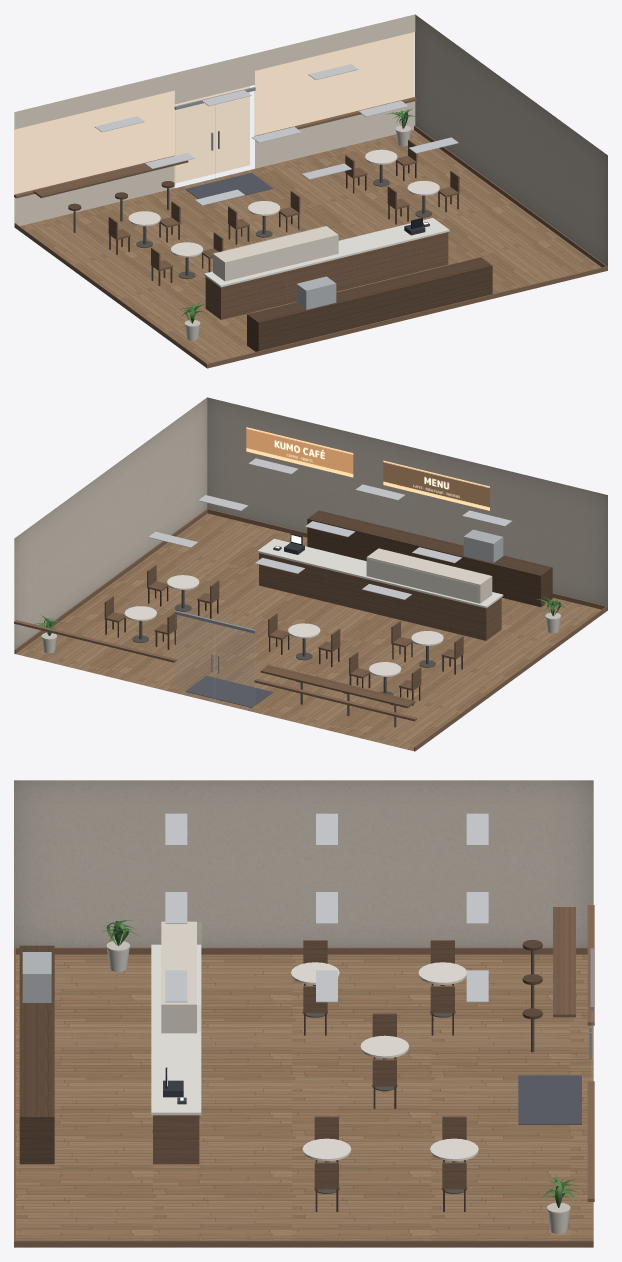
Rendered from interior-cafe.opt.glb.
3 views of the same model, one above another, from view 1: azimuth 30°, elevation 25°; view 2: azimuth 150°, elevation 25°; view 3: azimuth 270°, elevation 25° (orthographic). The views are drawn at different scales.
Parts seen in each view (by area): view 1: object 1, interior:cafe:street-view, object 13, object 7, object 8, object 10, object 12; view 2: object 7, object 1, object 13, object 10, object 12, name-sign, object 4, object 8; view 3: object 1, object 7, object 10, object 13, object 12, object 8, object 16.
Boxes of the visible parts, x1,y1,x2,y2 form: object 1: [15, 130, 603, 366]; interior:cafe:street-view: [14, 32, 414, 194]; object 13: [33, 139, 492, 351]; object 7: [415, 14, 607, 266]; object 8: [14, 14, 415, 226]; object 10: [14, 97, 607, 368]; object 12: [73, 64, 458, 309]; object 7: [14, 397, 607, 653]; object 1: [16, 513, 606, 751]; object 13: [104, 510, 552, 708]; object 10: [14, 508, 607, 751]; object 12: [132, 458, 511, 727]; name-sign: [246, 427, 353, 477]; object 4: [383, 460, 489, 510]; object 8: [185, 675, 273, 707]; object 1: [14, 954, 593, 1247]; object 7: [14, 780, 593, 947]; object 10: [14, 905, 594, 1247]; object 13: [19, 907, 575, 1211]; object 12: [22, 813, 534, 1193]; object 8: [518, 1075, 581, 1124]; object 16: [102, 920, 582, 1207].
Size of the model in its own units: 12 by 3.3 by 10.25.
Materials: 14 (6 with a texture image).
